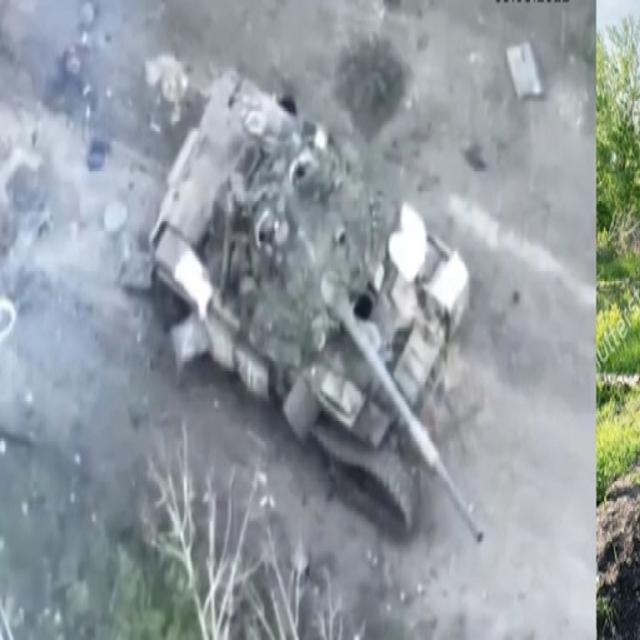TANK: (137, 56, 485, 556)
